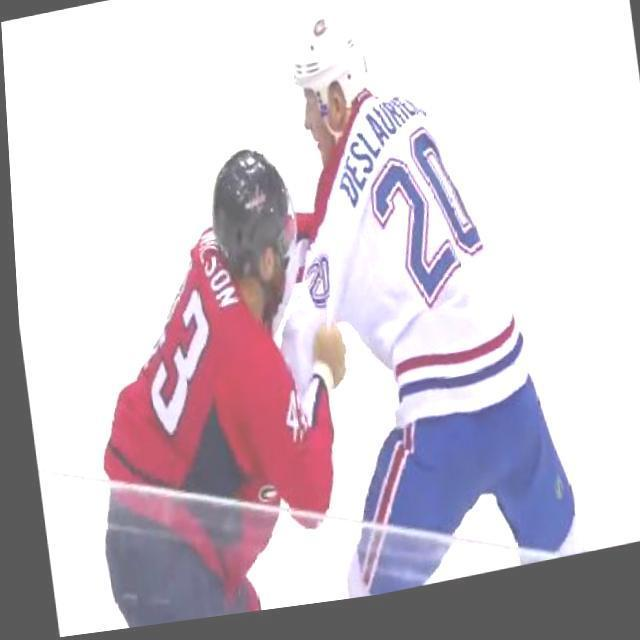fight: (32, 0, 564, 637)
